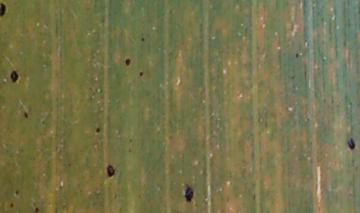tarspot: (183, 182, 194, 203), (8, 69, 21, 84), (105, 163, 116, 179), (346, 137, 355, 151), (123, 56, 133, 68), (1, 1, 7, 20), (22, 110, 29, 120), (94, 127, 101, 135), (139, 35, 145, 44), (294, 51, 300, 60), (8, 201, 14, 209), (14, 188, 20, 196), (138, 71, 145, 77), (33, 206, 39, 213)
